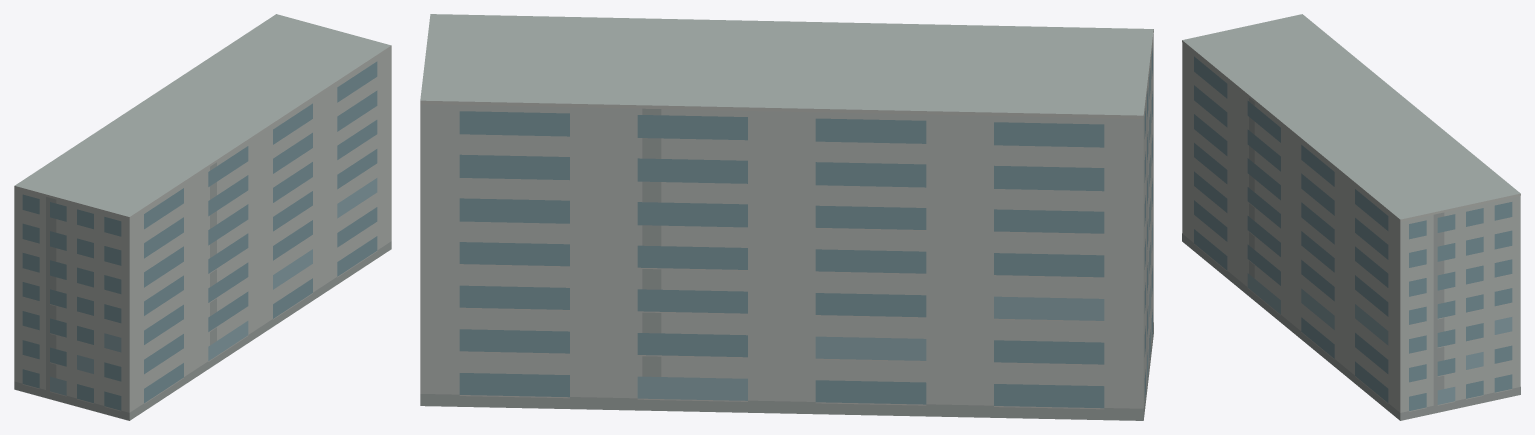
File: residential-0f90056a-07c5-4cf2-89e6-ad7677f25cbc.glb
The picture shows the model from 3 angles, left to right: view 1: azimuth 30°, elevation 25°; view 2: azimuth 150°, elevation 25°; view 3: azimuth 270°, elevation 25°; orthographic projection. The views are drawn at different scales.
Visible parts, largest first — view 1: residential-0f90056a-07c5-4cf2-89e6-ad7677f25cbc.tmp; view 2: residential-0f90056a-07c5-4cf2-89e6-ad7677f25cbc.tmp; view 3: residential-0f90056a-07c5-4cf2-89e6-ad7677f25cbc.tmp.
Part boxes in pixels (bbox=[...]): residential-0f90056a-07c5-4cf2-89e6-ad7677f25cbc.tmp: bbox=[14, 14, 391, 420]; residential-0f90056a-07c5-4cf2-89e6-ad7677f25cbc.tmp: bbox=[420, 14, 1153, 420]; residential-0f90056a-07c5-4cf2-89e6-ad7677f25cbc.tmp: bbox=[1182, 14, 1520, 420].
Bounding box in the file's own units: 46.78 × 21.35 × 32.56.
